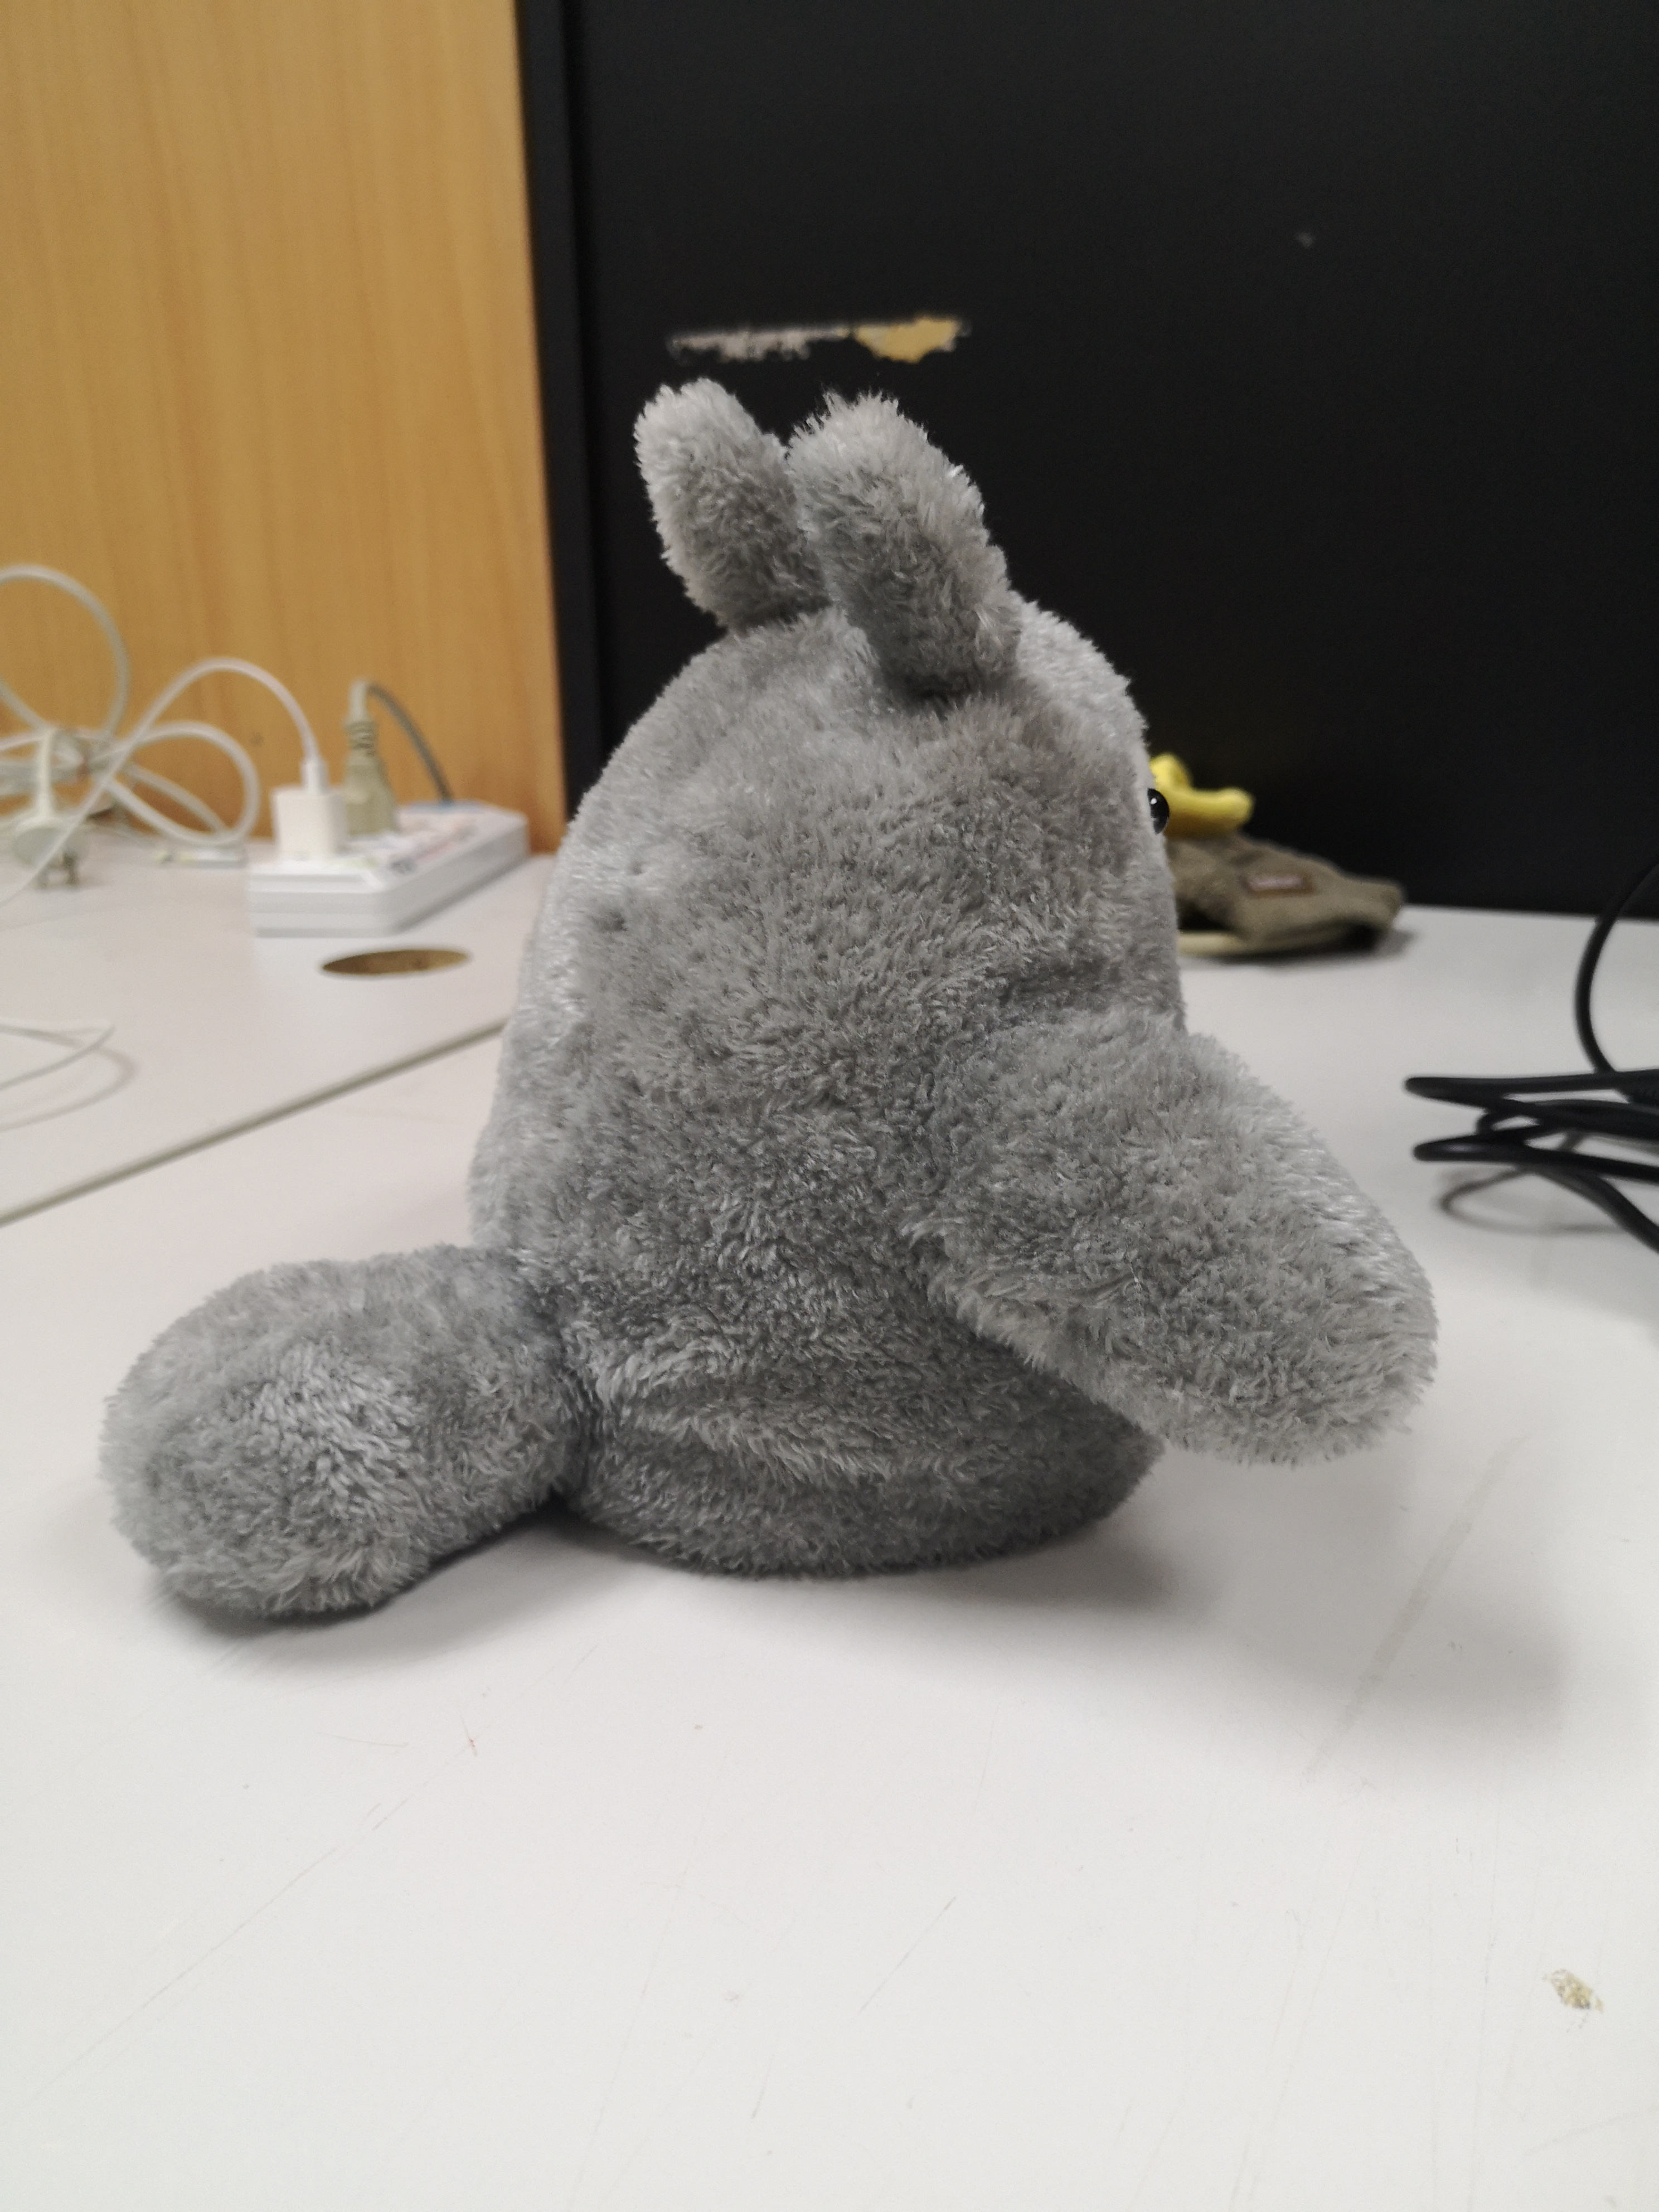totoro: (91, 361, 1467, 1649)
